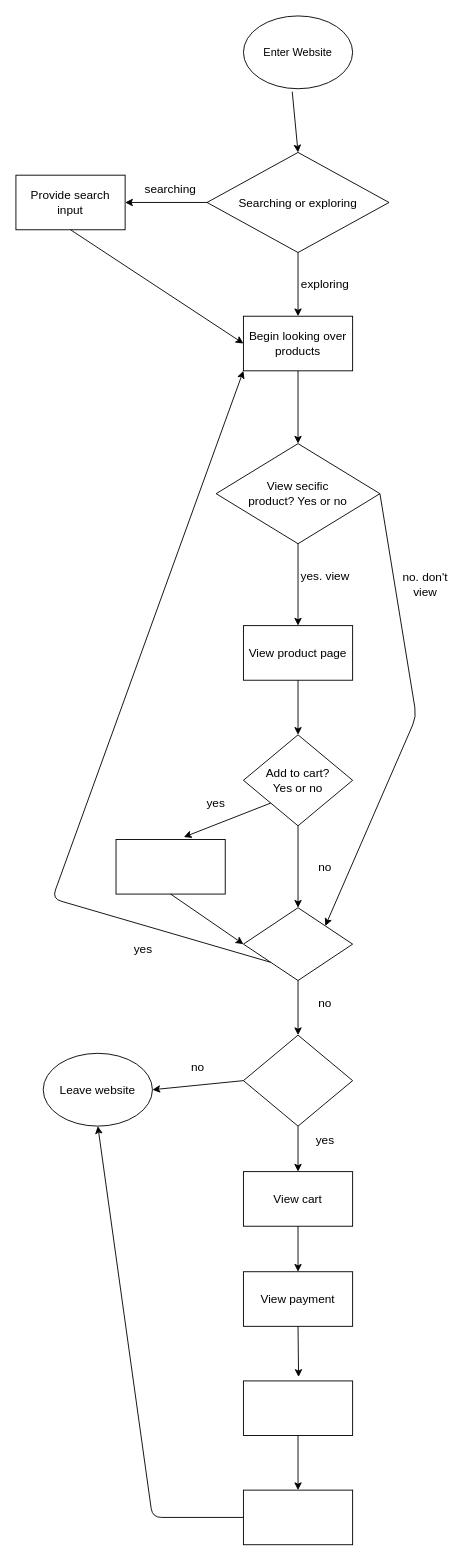
Image size: 469x1561. Some labels were removed from this diagram. Each missing label, with the box of its shape:
Checkout? Yes or no: (243, 1034, 353, 1126)
Continue shopping? Yes or no: (243, 907, 353, 981)
Email and payment confirmation: (243, 1489, 353, 1545)
Put payment info: (243, 1380, 353, 1436)
Recieve confirmation: (115, 839, 225, 894)
